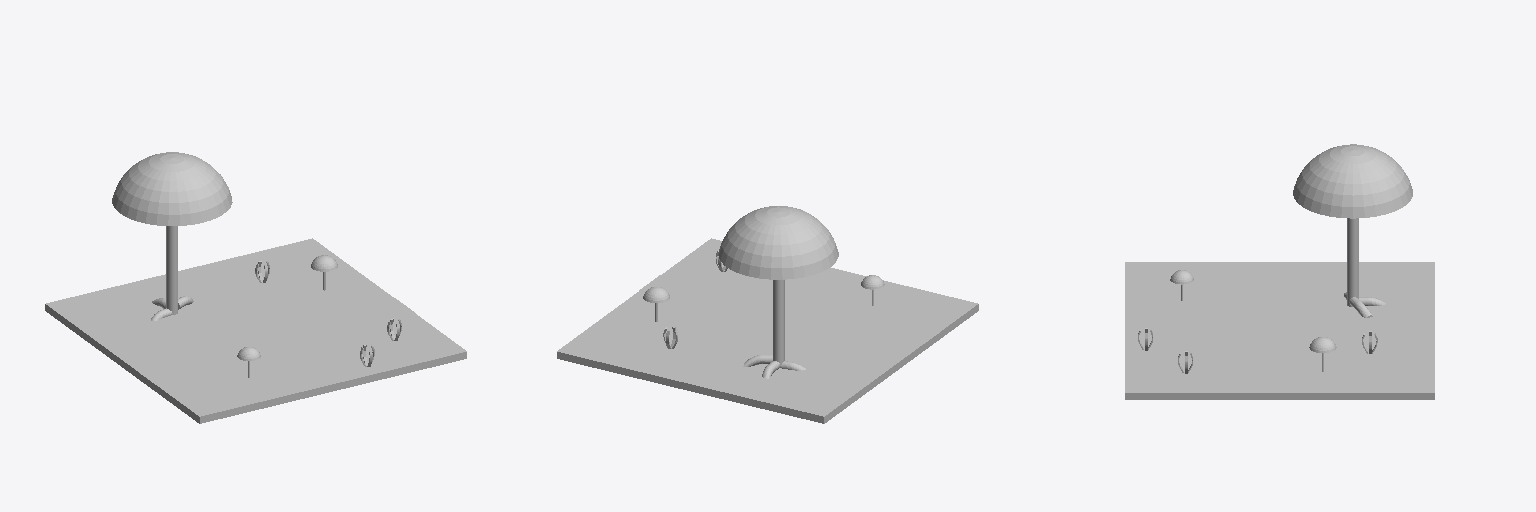
The model's file is DioramaHongo.obj.
The picture shows the model from 3 angles: view 1: azimuth 30°, elevation 25°; view 2: azimuth 150°, elevation 25°; view 3: azimuth 270°, elevation 25°; orthographic projection.
Visible parts, largest first — view 1: Suelo_Cube.001, Sphere_Sphere, Plane_Plane, Hongo_Cylinder; view 2: Suelo_Cube.001, Sphere_Sphere, Plane_Plane, Hongo_Cylinder; view 3: Suelo_Cube.001, Sphere_Sphere, Plane_Plane, Hongo_Cylinder.
Boxes of the visible parts, box(x1,y1,x2,y2) form: Suelo_Cube.001: box(45, 238, 466, 423); Sphere_Sphere: box(112, 152, 232, 225); Plane_Plane: box(141, 298, 416, 386); Hongo_Cylinder: box(166, 226, 177, 314); Suelo_Cube.001: box(557, 238, 978, 423); Sphere_Sphere: box(718, 206, 838, 279); Plane_Plane: box(639, 275, 939, 345); Hongo_Cylinder: box(773, 280, 784, 364); Suelo_Cube.001: box(1125, 262, 1434, 399); Sphere_Sphere: box(1293, 144, 1412, 218); Plane_Plane: box(1205, 262, 1270, 392); Hongo_Cylinder: box(1347, 218, 1358, 306).
Size of the model in its own units: 21.49 by 12.65 by 21.42.